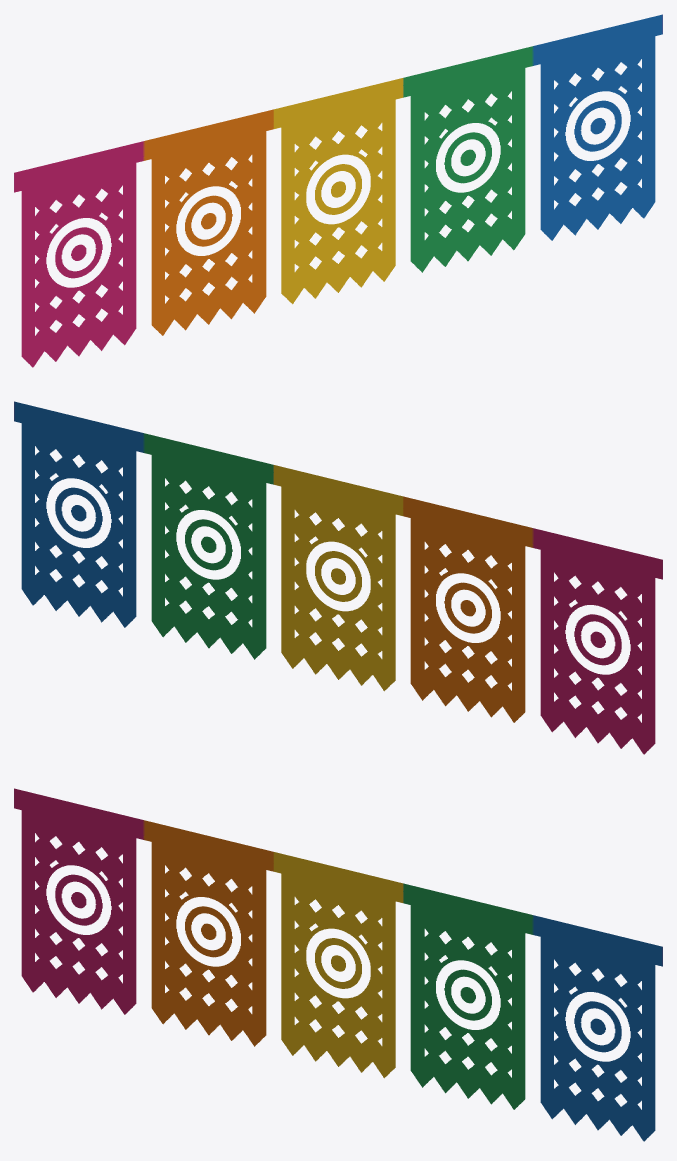
The model's file is papel_picado.obj.
The picture shows the model from 3 angles, top to bottom: view 1: azimuth 30°, elevation 25°; view 2: azimuth 150°, elevation 25°; view 3: azimuth 330°, elevation 25°; orthographic projection.
Parts seen in each view (by area): view 1: papel_picado; view 2: papel_picado; view 3: papel_picado.
Boxes of the visible parts, box(x1,y1,x2,y2) form: papel_picado: box(14, 14, 662, 367); papel_picado: box(14, 401, 662, 754); papel_picado: box(14, 788, 662, 1141).
Bounding box in the file's own units: 1.7 × 0.5 × 0.
Materials: 1 (1 with a texture image).
